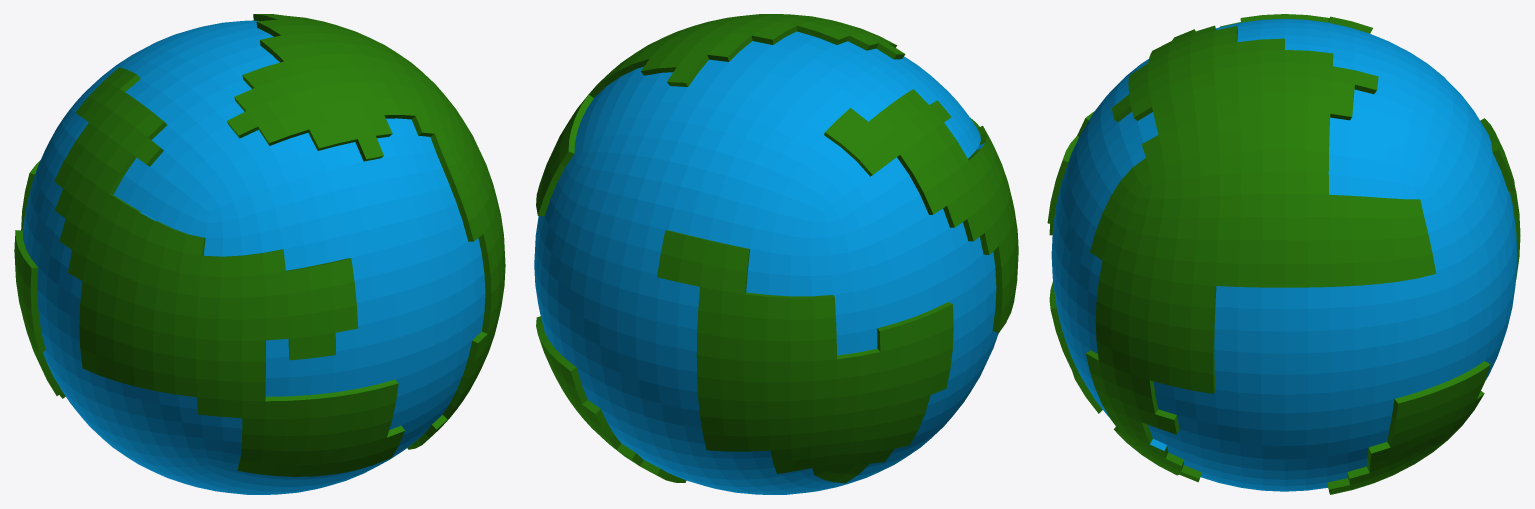
3 views of the same model, side by side, from view 1: azimuth 30°, elevation 25°; view 2: azimuth 150°, elevation 25°; view 3: azimuth 270°, elevation 25° (orthographic).
Visible parts, largest first — view 1: Cube; view 2: Cube; view 3: Cube.
Boxes of the visible parts, <box> form: Cube: <box>14,14,505,494</box>; Cube: <box>534,14,1018,494</box>; Cube: <box>1047,14,1520,494</box>.
Size of the model in its own units: 169 by 170 by 171.
